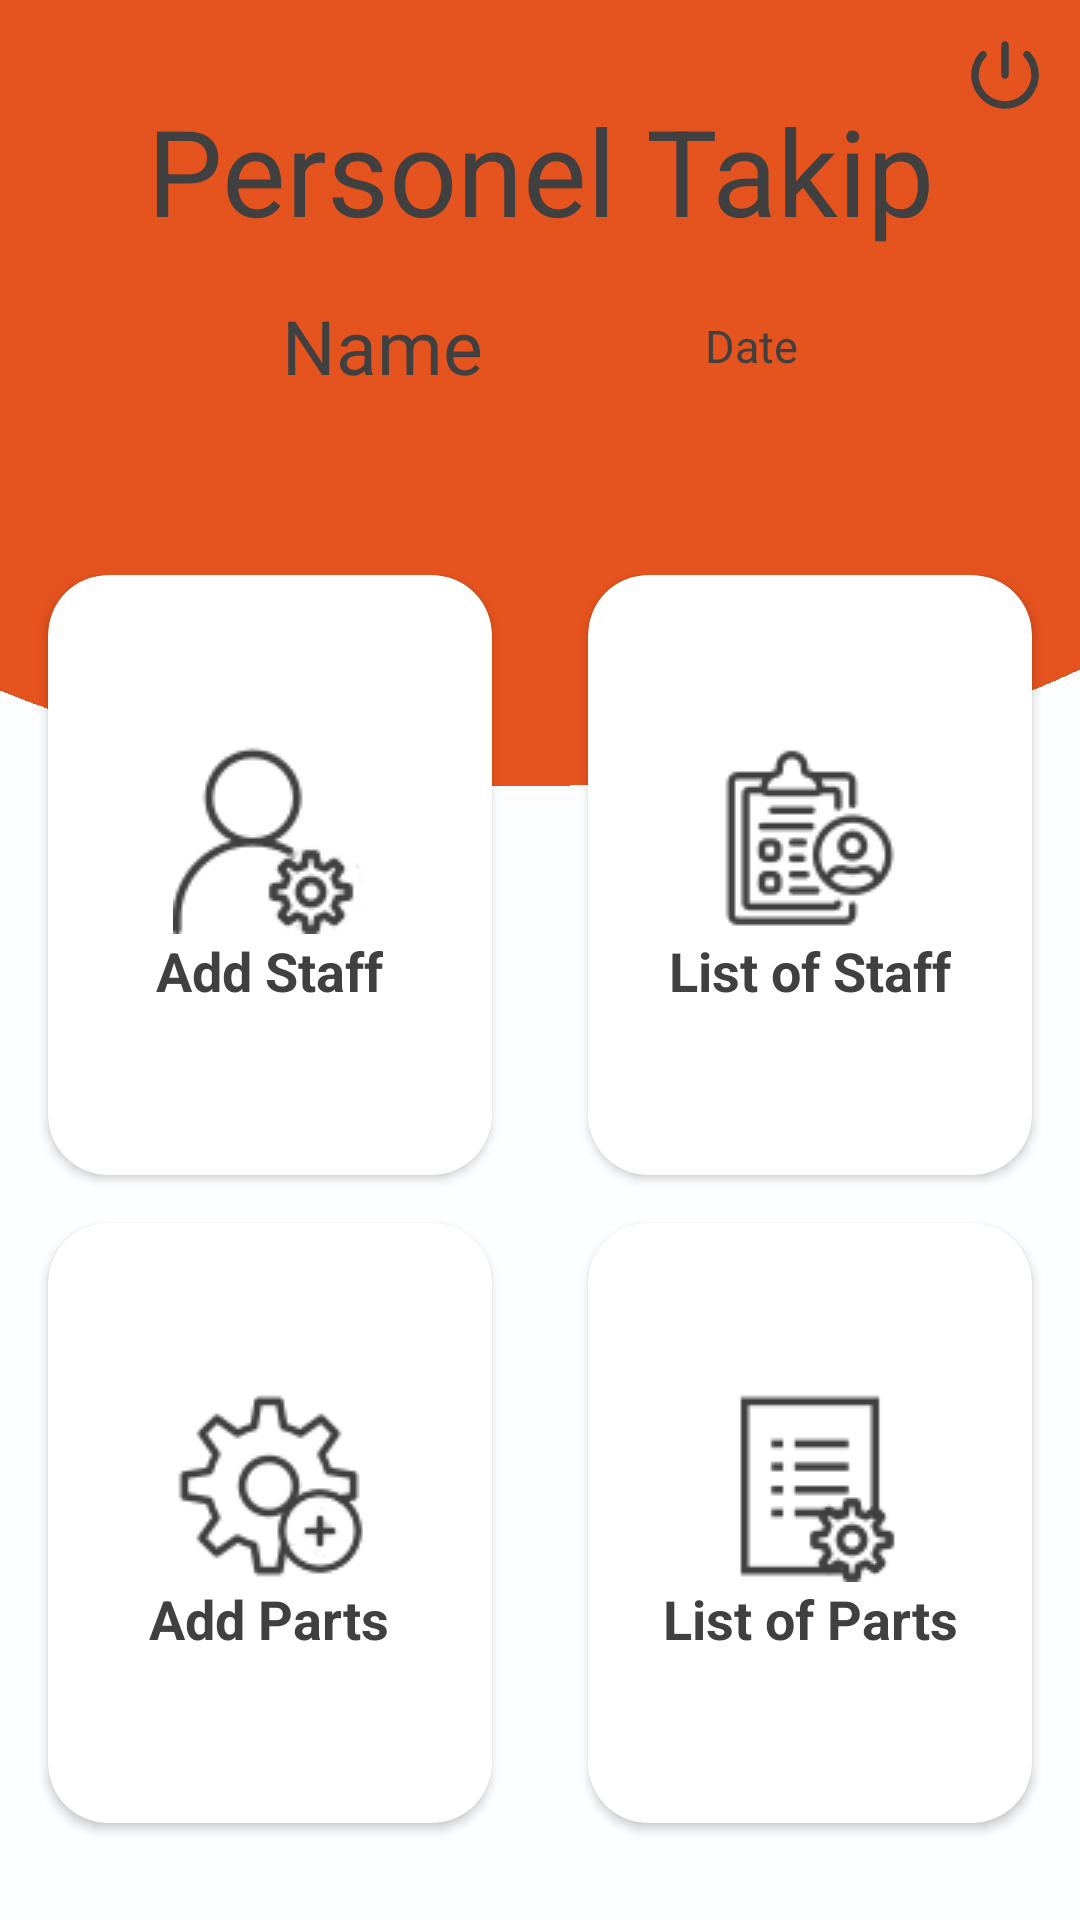

Screen size 1080 x 1920. Icon name, then its box in pixels as (x1, y1, x2, y2):
signout: (971, 41, 1039, 109)
